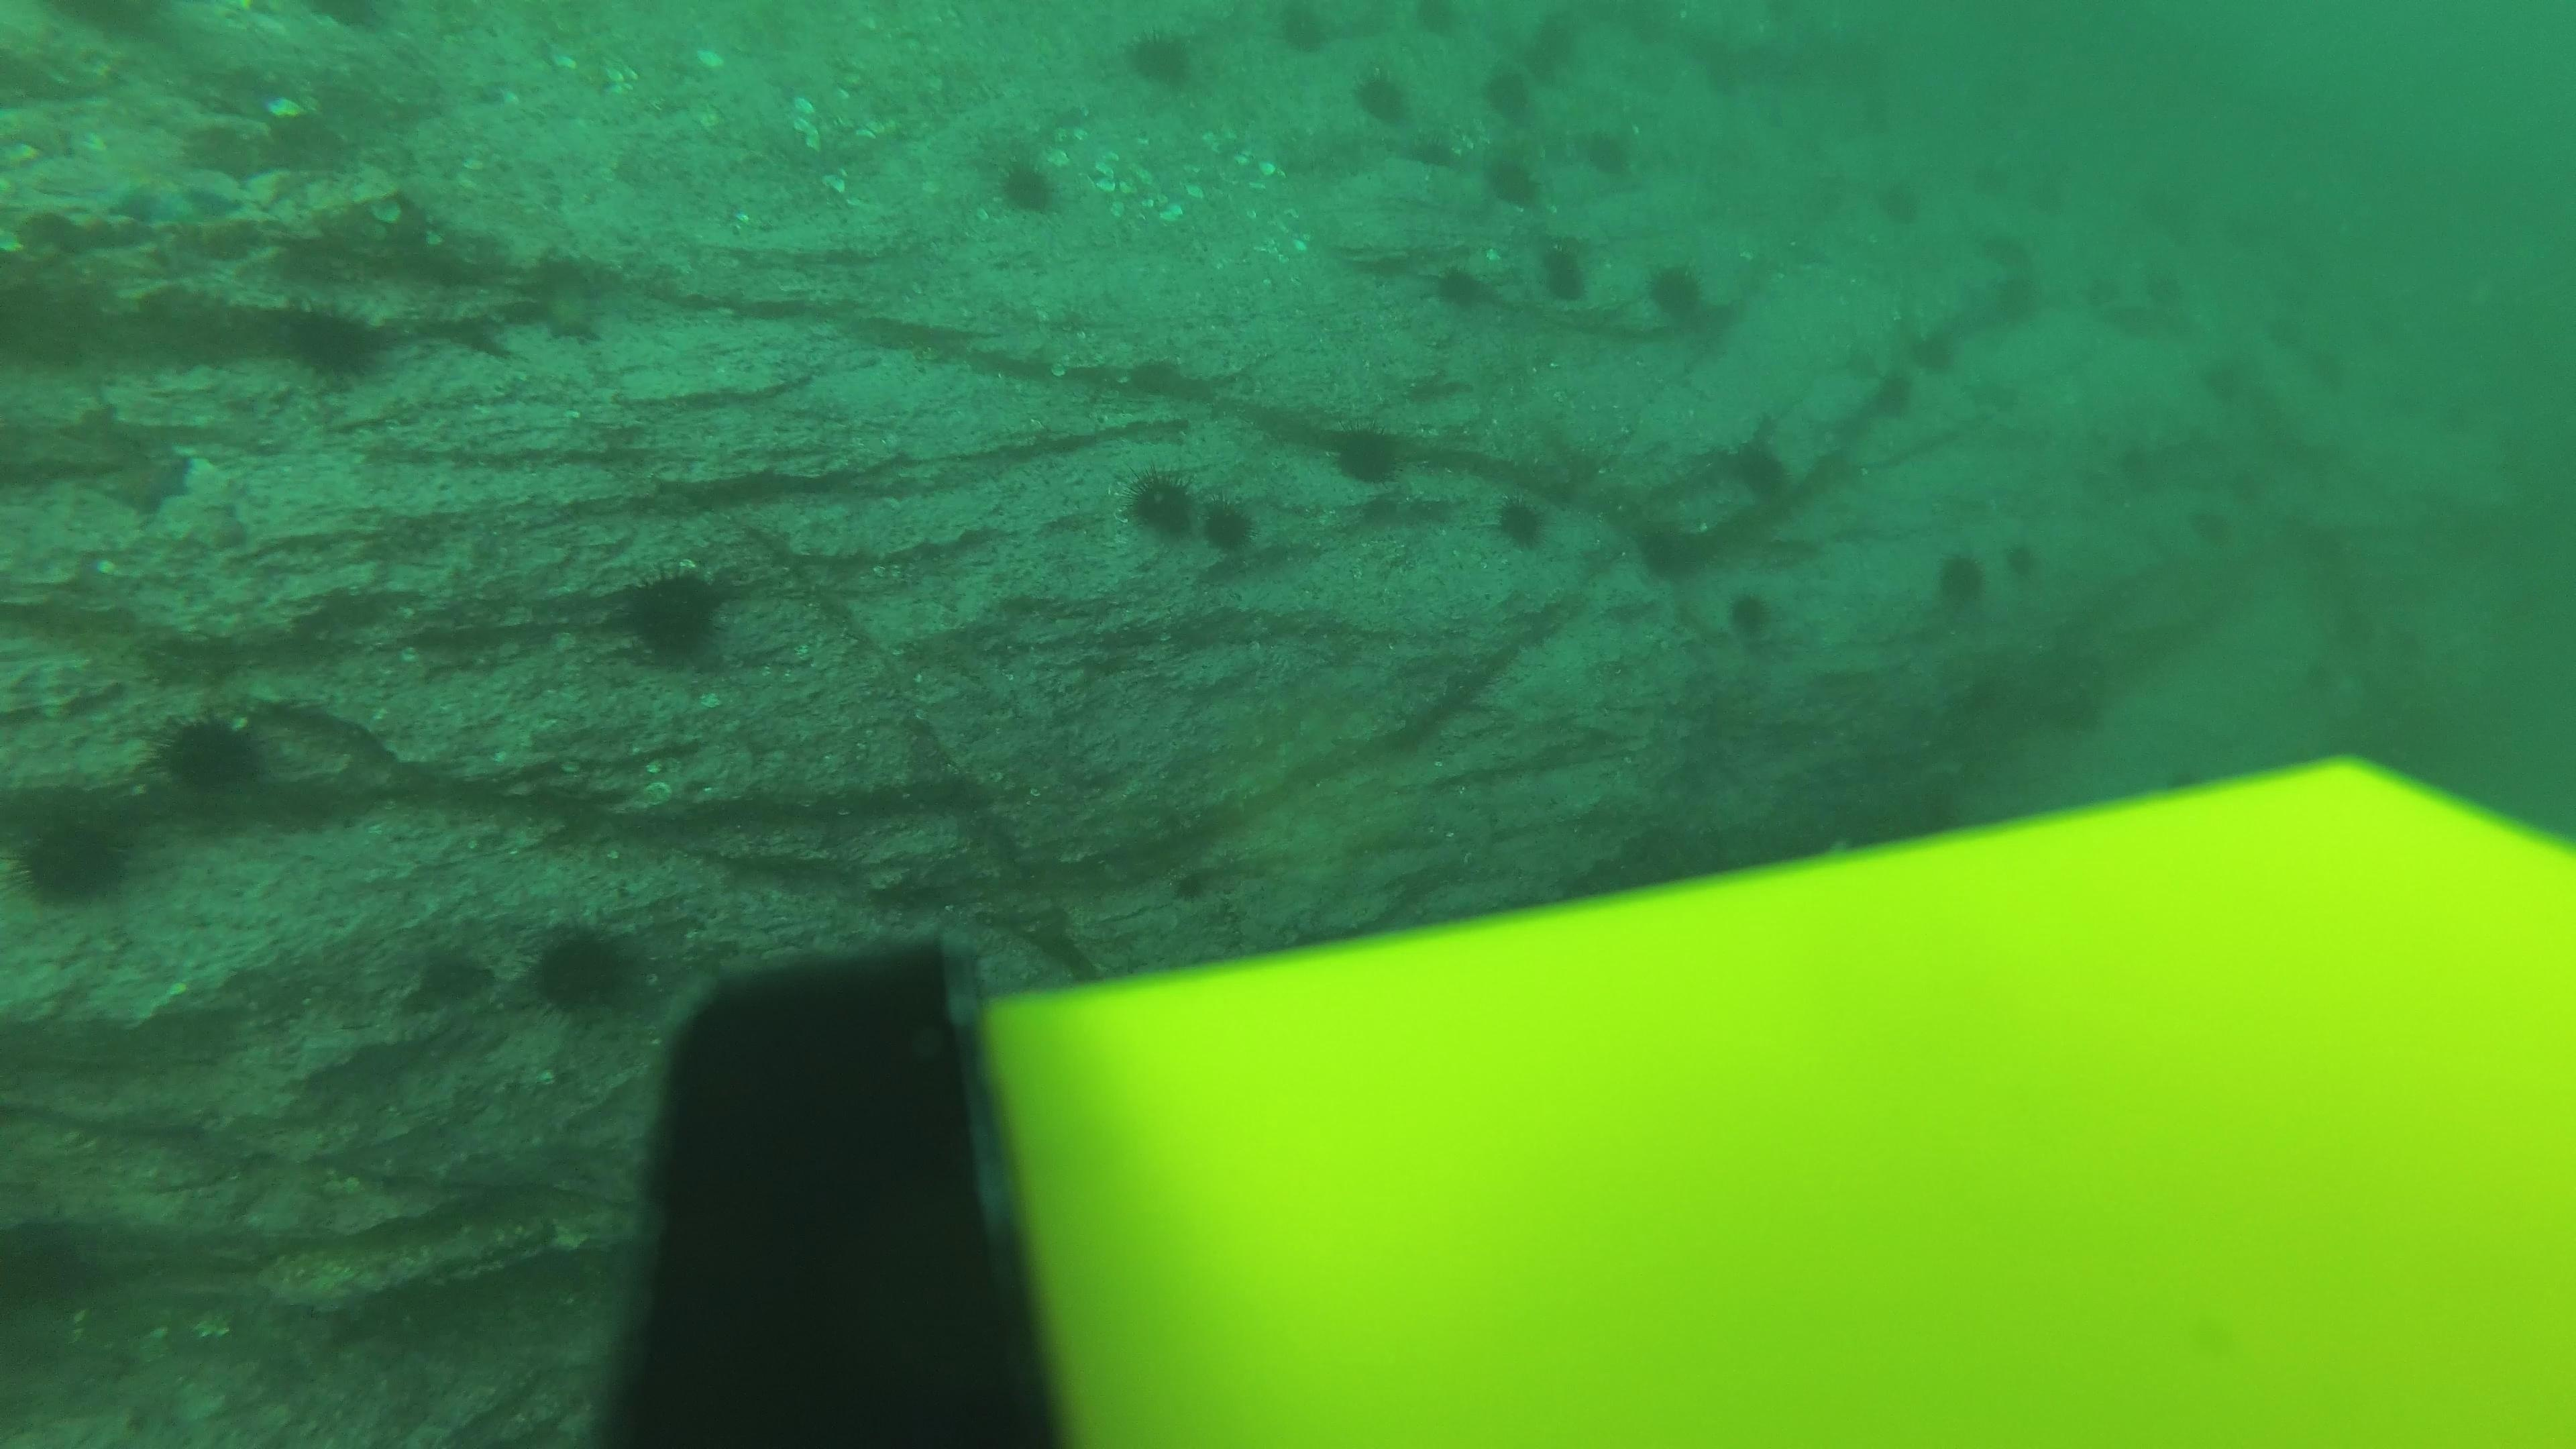echinus: (9, 796, 142, 913), (609, 559, 741, 672), (518, 915, 649, 1024), (145, 702, 276, 809), (274, 297, 395, 389), (398, 938, 497, 1016), (1322, 416, 1414, 492), (1116, 23, 1208, 99), (1628, 510, 1716, 586), (984, 145, 1069, 223), (1127, 456, 1198, 533), (1484, 487, 1559, 557), (1198, 499, 1269, 573), (1640, 255, 1713, 326), (1346, 62, 1417, 131), (1477, 145, 1548, 212), (1718, 582, 1787, 649), (1424, 258, 1493, 318), (1927, 548, 1990, 609), (1463, 67, 1532, 117), (1270, 7, 1338, 57), (1412, 0, 1479, 50), (1994, 536, 2049, 586), (1911, 318, 1966, 368), (1994, 278, 2047, 327), (1962, 152, 2015, 202), (2233, 216, 2286, 265), (1737, 456, 1792, 504), (1859, 366, 1914, 414), (1989, 230, 2043, 278), (1868, 175, 1923, 223), (2026, 172, 2081, 219), (2139, 186, 2192, 234), (1543, 264, 1596, 308), (1405, 127, 1458, 172), (1541, 241, 1594, 283), (1583, 133, 1637, 175), (1684, 25, 1732, 65), (1520, 46, 1566, 87), (1700, 55, 1746, 96), (1529, 11, 1576, 50), (2190, 506, 2236, 545), (2121, 458, 2167, 497), (2146, 264, 2192, 303), (2380, 616, 2426, 655), (1621, 9, 1667, 48), (2305, 352, 2350, 391), (2348, 299, 2392, 338), (2327, 607, 2371, 646), (2302, 658, 2346, 697), (2311, 518, 2355, 557), (2077, 272, 2121, 311), (2224, 465, 2270, 502), (2258, 311, 2302, 349), (2206, 368, 2250, 405), (2434, 400, 2479, 437)
starfish: (34, 136, 249, 235), (94, 441, 202, 522), (525, 280, 614, 350)
